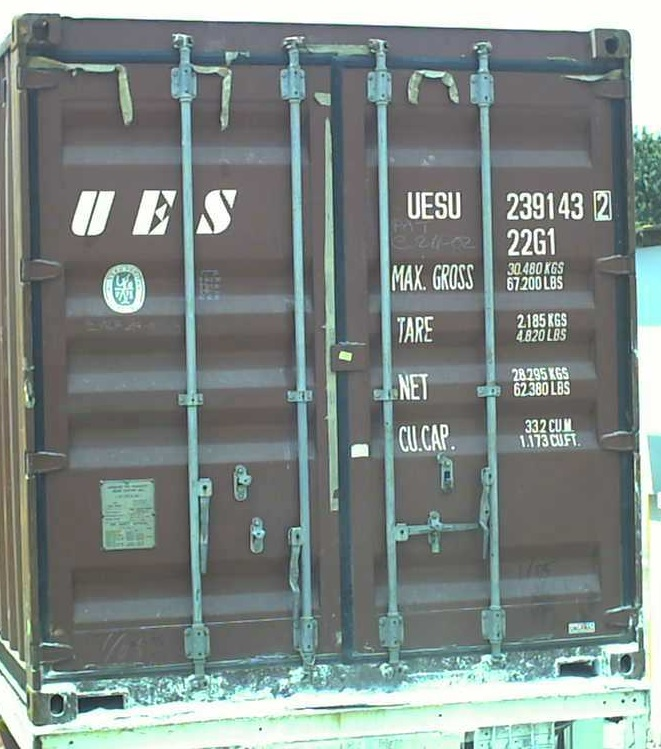container_door: (15, 7, 644, 725)
